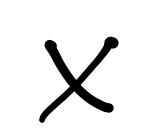mult: (39, 35, 119, 123)
